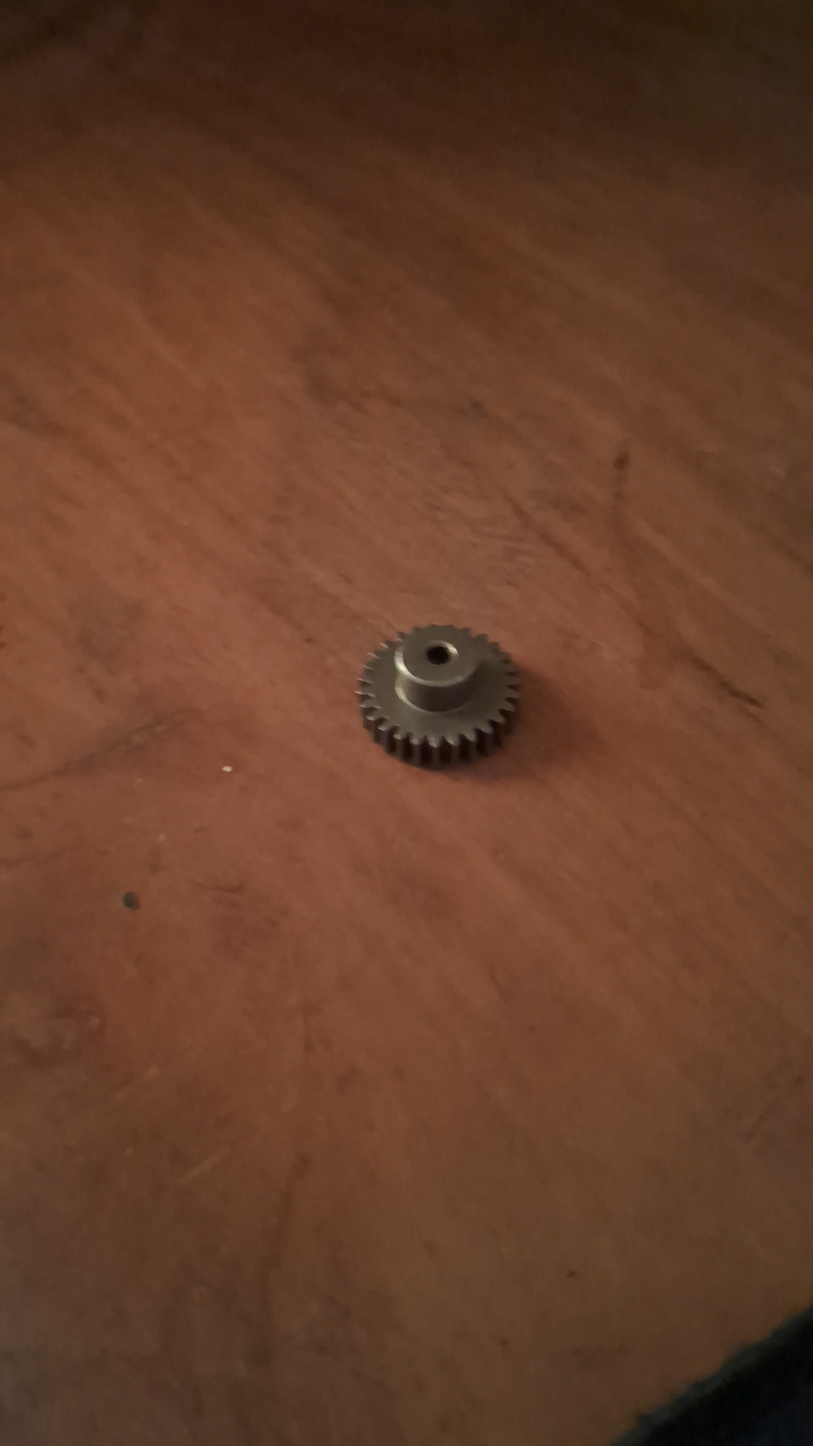spur gear: (357, 625, 518, 766)
